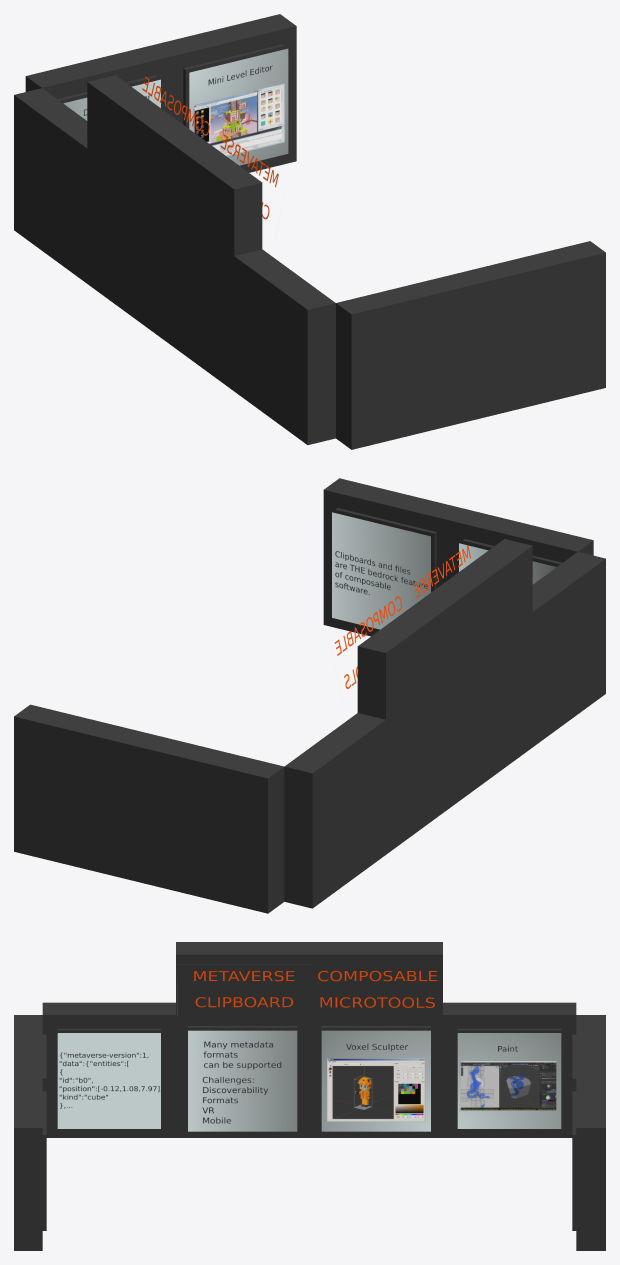
Rendered from a_presentation.glb.
3 views of the same model, one above another, from view 1: azimuth 30°, elevation 25°; view 2: azimuth 150°, elevation 25°; view 3: azimuth 270°, elevation 25° (orthographic). The views are drawn at different scales.
Visible parts, largest first — view 1: Plane, Plane.001, Plane.002; view 2: Plane, Plane.001, Plane.002; view 3: Plane, Plane.001, Plane.002.
Boxes of the visible parts, left/top/right/bottom form: Plane: left=14, top=14, right=605, bottom=449; Plane.001: left=63, top=48, right=288, bottom=165; Plane.002: left=142, top=76, right=278, bottom=219; Plane: left=14, top=478, right=605, bottom=913; Plane.001: left=332, top=512, right=555, bottom=629; Plane.002: left=334, top=545, right=470, bottom=688; Plane: left=14, top=942, right=605, bottom=1250; Plane.001: left=57, top=1030, right=561, bottom=1131; Plane.002: left=177, top=970, right=437, bottom=1015.
Size of the model in its own units: 6.55 by 4.55 by 13.09.
2 materials, 2 textured.
